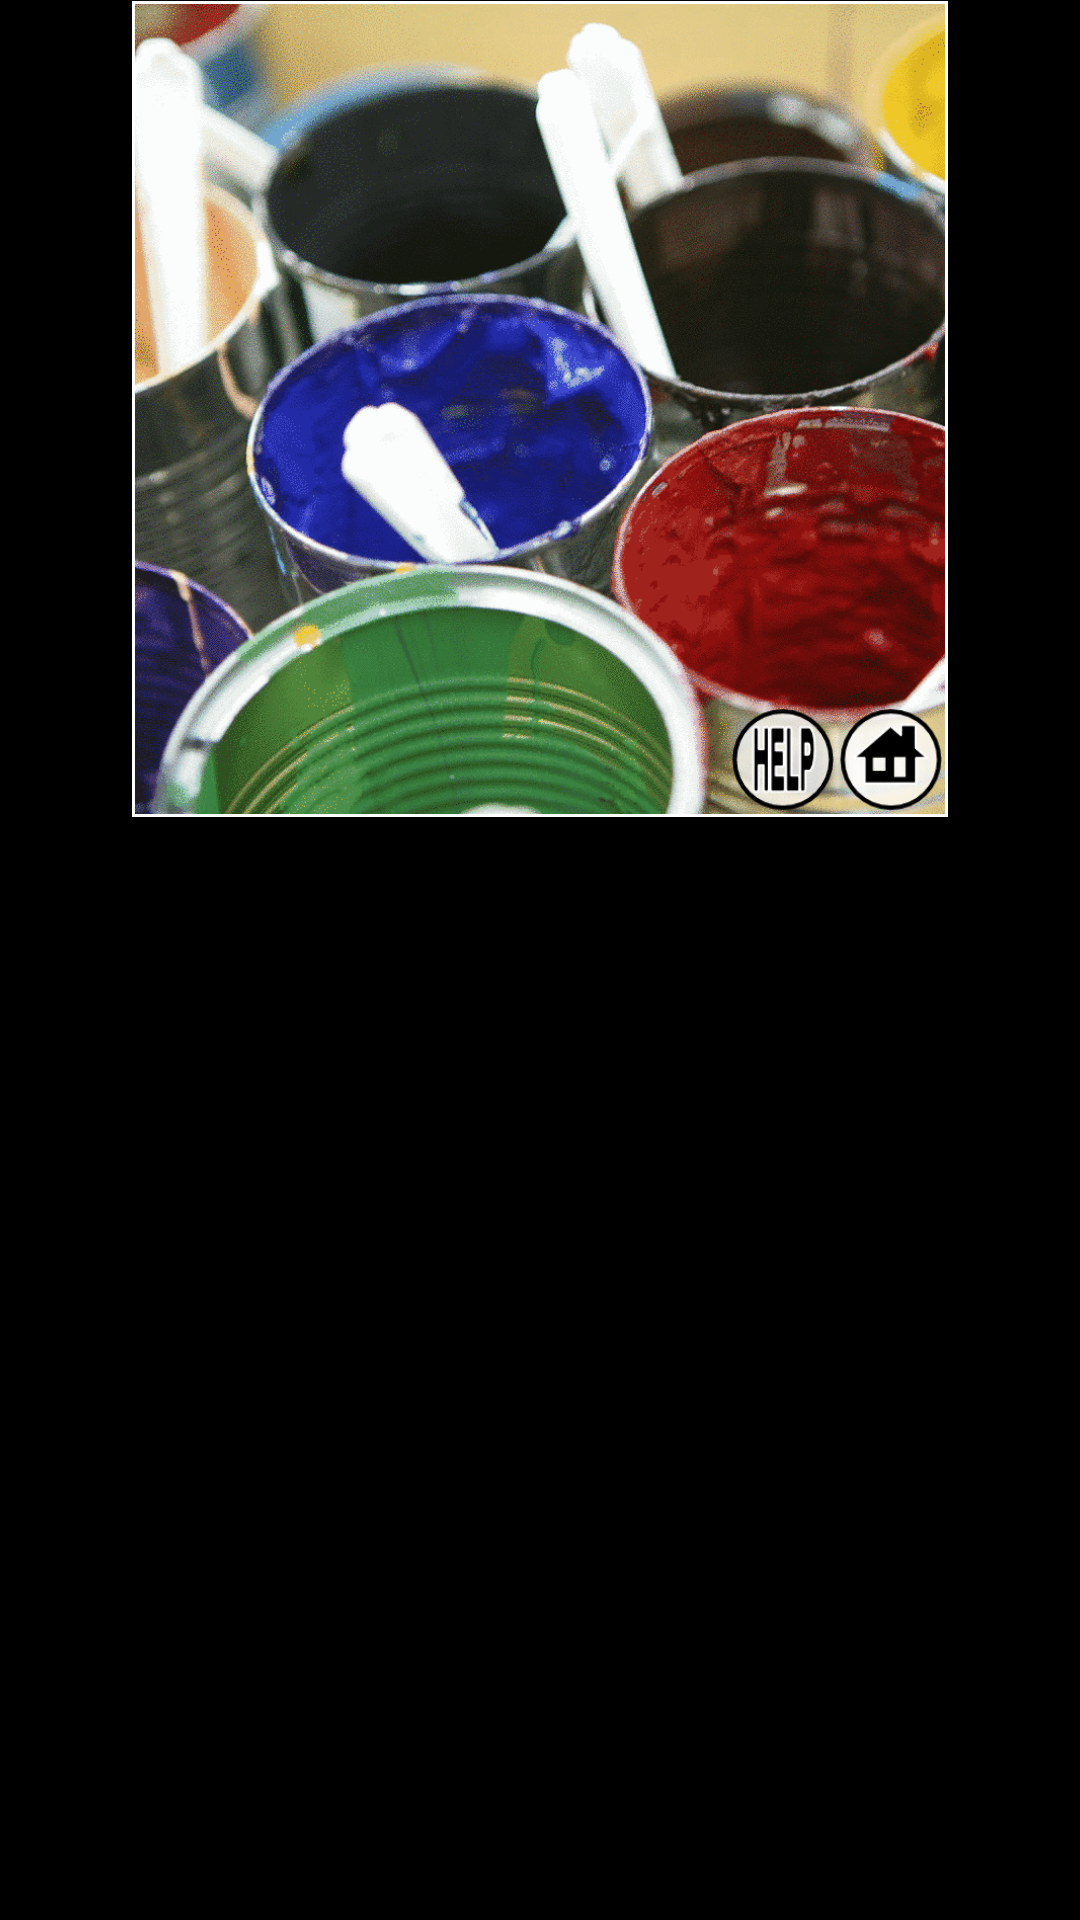

Named icons in this screenshot (1080*1920) and their centers, (x=x, y=y):
desktophome: (x=891, y=760)
